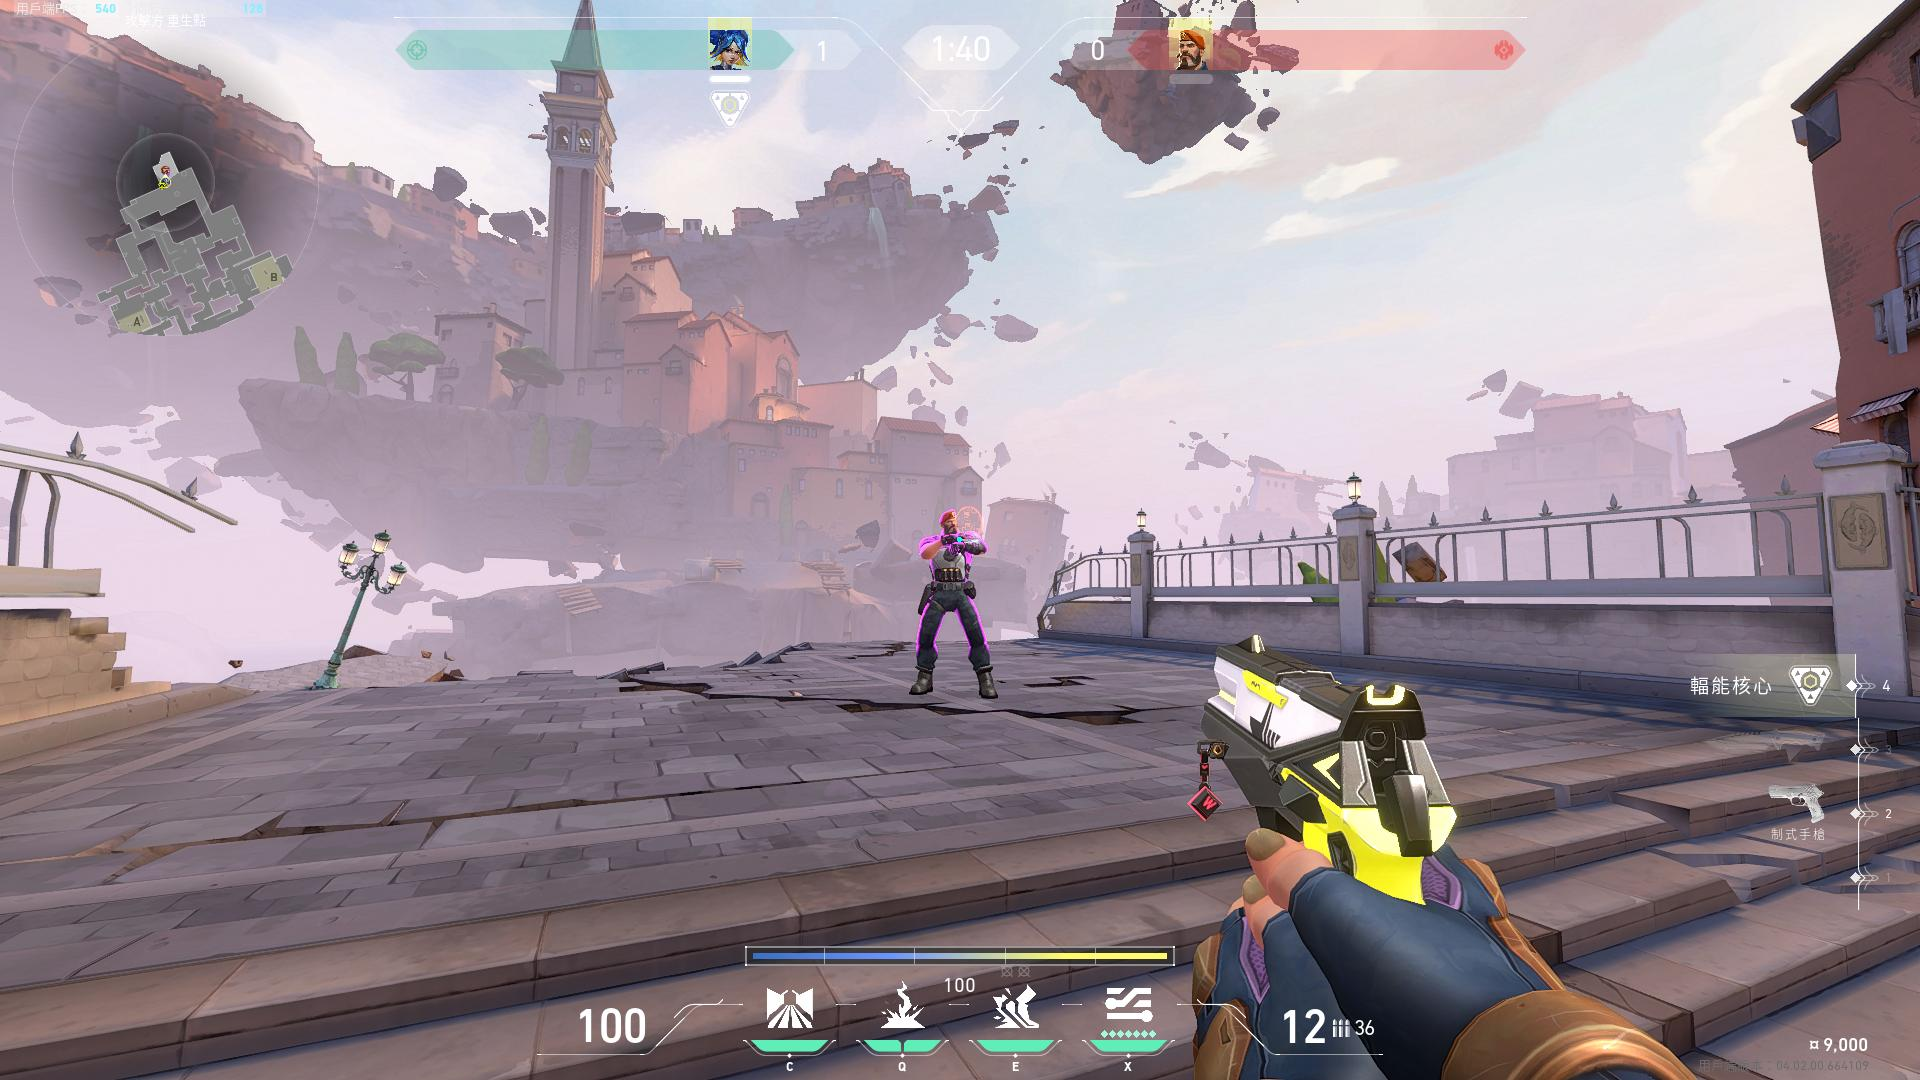enemyBody: (938, 543, 969, 582)
enemyHead: (942, 508, 967, 541)
